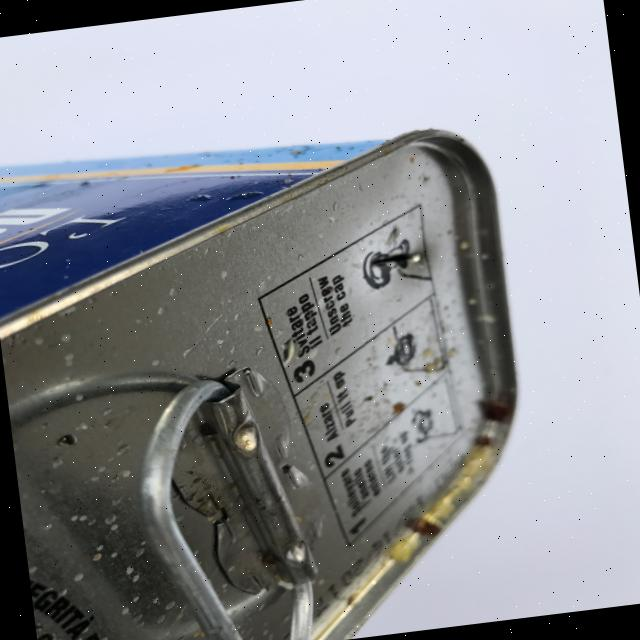metal: (0, 116, 549, 640)
